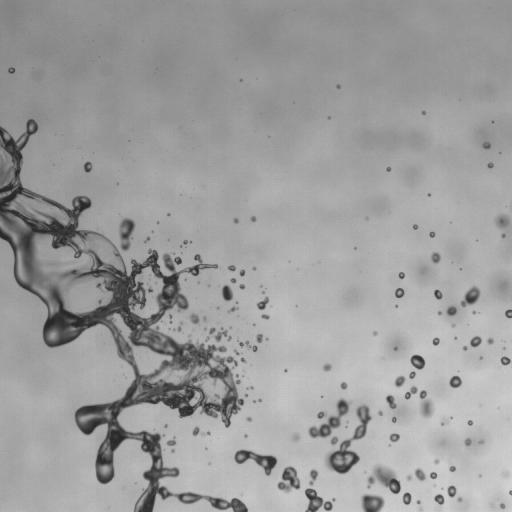droplet: (366, 464, 401, 494), (277, 465, 300, 493), (359, 493, 385, 511), (460, 285, 480, 307), (494, 213, 509, 230), (410, 354, 425, 369), (221, 284, 233, 301), (434, 494, 445, 511), (256, 296, 269, 310), (449, 374, 462, 388), (404, 385, 417, 399), (385, 394, 396, 409), (414, 468, 426, 481), (469, 335, 481, 347), (188, 312, 199, 325), (439, 416, 453, 426), (430, 251, 441, 263), (394, 375, 405, 387), (9, 128, 20, 139), (482, 150, 493, 161), (78, 186, 89, 197), (78, 210, 89, 221), (238, 213, 249, 224), (76, 219, 87, 230), (417, 225, 428, 236), (121, 249, 132, 260), (135, 252, 146, 263), (182, 256, 193, 267), (437, 298, 448, 309), (168, 304, 179, 315), (456, 305, 467, 316), (155, 319, 166, 330), (256, 319, 267, 330), (182, 320, 193, 331), (93, 322, 104, 333), (82, 326, 93, 337), (174, 333, 185, 344), (240, 346, 251, 357), (412, 376, 423, 387), (392, 387, 403, 398), (114, 388, 125, 399), (339, 389, 350, 400), (238, 404, 249, 415), (326, 405, 337, 416), (431, 407, 442, 418), (345, 408, 356, 419), (116, 413, 127, 424), (96, 423, 107, 434), (119, 438, 130, 449), (348, 441, 359, 452), (112, 447, 123, 458), (141, 453, 152, 464), (161, 456, 172, 467), (141, 457, 152, 468), (381, 458, 392, 469), (435, 463, 446, 474), (272, 464, 283, 475), (372, 483, 383, 494), (378, 485, 389, 496), (294, 488, 305, 499), (198, 498, 209, 509), (447, 485, 457, 497), (402, 492, 411, 505), (446, 306, 457, 316), (500, 356, 511, 366), (83, 161, 92, 172), (185, 502, 196, 511), (395, 288, 404, 298), (291, 432, 300, 442), (389, 433, 399, 442), (166, 436, 176, 445), (19, 162, 28, 171), (113, 237, 122, 246), (218, 261, 227, 270), (395, 278, 404, 287), (229, 283, 238, 292), (178, 285, 187, 294), (471, 300, 480, 309), (186, 304, 195, 313), (181, 308, 190, 317), (218, 337, 227, 346), (401, 382, 410, 391), (248, 390, 257, 399), (410, 392, 419, 401), (88, 396, 97, 405), (347, 404, 356, 413), (313, 418, 322, 427), (329, 427, 338, 436), (344, 429, 353, 438), (300, 430, 309, 439), (259, 447, 268, 456), (245, 457, 254, 466), (255, 464, 264, 473), (157, 477, 166, 486), (140, 478, 149, 487), (299, 480, 308, 489), (168, 495, 177, 504), (434, 289, 442, 299), (501, 469, 509, 479), (322, 363, 331, 371), (428, 471, 437, 479), (256, 333, 263, 343), (505, 222, 511, 233), (505, 477, 511, 488), (505, 495, 511, 506), (151, 505, 162, 511), (353, 505, 364, 511), (403, 505, 414, 511), (437, 505, 448, 511), (482, 141, 490, 149), (464, 437, 471, 446), (505, 308, 511, 318), (449, 461, 455, 471), (432, 337, 439, 345), (340, 381, 347, 389), (0, 65, 5, 76), (0, 145, 5, 156), (0, 218, 5, 229), (227, 265, 236, 271), (398, 272, 405, 279), (486, 337, 493, 344), (432, 458, 439, 465), (19, 148, 26, 155), (90, 163, 97, 170), (81, 208, 88, 215), (127, 213, 134, 220), (115, 216, 122, 223), (496, 227, 503, 234), (129, 230, 136, 237), (425, 256, 432, 263), (156, 257, 163, 264), (164, 269, 171, 276), (232, 270, 239, 277), (176, 276, 183, 283), (236, 276, 243, 283), (462, 285, 469, 292), (216, 290, 223, 297), (458, 293, 465, 300), (186, 296, 193, 303), (226, 299, 233, 306), (454, 302, 461, 309), (469, 302, 476, 309), (465, 303, 472, 310), (161, 313, 168, 320), (40, 314, 47, 321), (448, 314, 455, 321), (171, 320, 178, 327), (450, 328, 457, 335), (208, 337, 215, 344), (250, 338, 257, 345), (67, 340, 74, 347), (213, 340, 220, 347), (479, 340, 486, 347), (62, 342, 69, 349), (110, 344, 117, 351), (212, 349, 219, 356), (218, 351, 225, 358), (126, 365, 133, 372), (230, 367, 237, 374), (128, 373, 135, 380), (236, 391, 243, 398), (331, 397, 338, 404), (142, 401, 149, 408), (368, 409, 375, 416), (68, 414, 75, 421), (183, 414, 190, 421), (229, 414, 236, 421), (339, 415, 346, 422), (321, 416, 328, 423), (354, 418, 361, 425), (365, 421, 372, 428), (147, 427, 154, 434), (75, 429, 82, 436), (324, 434, 331, 441), (315, 435, 322, 442), (337, 435, 344, 442), (158, 438, 165, 445), (470, 439, 477, 446), (90, 452, 97, 459), (350, 464, 357, 471), (366, 468, 373, 475), (330, 469, 337, 476), (423, 469, 430, 476), (90, 474, 97, 481), (398, 487, 405, 494), (277, 488, 284, 495), (441, 490, 448, 497), (211, 491, 218, 498), (154, 493, 161, 500), (240, 496, 247, 503), (409, 371, 415, 379), (261, 314, 270, 319), (506, 212, 511, 221), (316, 506, 325, 511), (378, 506, 387, 511), (8, 67, 15, 73), (239, 269, 245, 276), (406, 474, 412, 481), (499, 502, 505, 509), (183, 240, 191, 245), (487, 162, 493, 168), (233, 217, 239, 223), (250, 216, 256, 222), (429, 231, 435, 237), (240, 357, 246, 363), (246, 416, 252, 422), (0, 237, 4, 246), (505, 505, 511, 511), (372, 330, 377, 337), (412, 224, 418, 229), (230, 278, 236, 283), (239, 284, 245, 289), (462, 345, 467, 351), (377, 410, 383, 415), (467, 420, 473, 425), (457, 496, 462, 502), (212, 507, 219, 511), (226, 507, 233, 511), (421, 110, 426, 115), (386, 166, 391, 171), (437, 310, 442, 315), (393, 346, 398, 351), (33, 116, 38, 121), (1, 123, 6, 128), (21, 127, 26, 132), (28, 134, 33, 139), (12, 135, 17, 140), (25, 141, 30, 146), (489, 144, 494, 149), (484, 148, 489, 153), (80, 159, 85, 164), (492, 161, 497, 166), (79, 166, 84, 171), (18, 171, 23, 176), (21, 182, 26, 187), (76, 191, 81, 196), (56, 198, 61, 203), (90, 201, 95, 206), (68, 204, 73, 209), (249, 211, 254, 216), (255, 215, 260, 220), (232, 222, 237, 227), (75, 225, 80, 230), (97, 228, 102, 233), (148, 232, 153, 237), (433, 247, 438, 252), (118, 248, 123, 253), (175, 251, 180, 256), (144, 252, 149, 257), (169, 254, 174, 259), (201, 258, 206, 263), (438, 258, 443, 263), (193, 259, 198, 264), (209, 259, 214, 264), (433, 262, 438, 267), (8, 265, 13, 270), (125, 270, 130, 275), (186, 272, 191, 277), (194, 274, 199, 279), (10, 276, 15, 281), (12, 280, 17, 285), (438, 287, 443, 292), (24, 289, 29, 294), (264, 291, 269, 296), (429, 291, 434, 296), (441, 293, 446, 298), (32, 294, 37, 299), (430, 294, 435, 299), (259, 296, 264, 301), (398, 296, 403, 301), (39, 301, 44, 306), (264, 302, 269, 307), (260, 308, 265, 313), (233, 309, 238, 314), (441, 309, 446, 314), (500, 312, 505, 317), (197, 314, 202, 319), (261, 317, 266, 322), (192, 323, 197, 328), (206, 324, 211, 329), (372, 325, 377, 330), (215, 326, 220, 331), (204, 329, 209, 334), (226, 330, 231, 335), (367, 330, 372, 335), (474, 331, 479, 336), (488, 333, 493, 338), (220, 335, 225, 340), (38, 336, 43, 341), (230, 337, 235, 342), (240, 337, 245, 342), (492, 337, 497, 342), (191, 339, 196, 344), (465, 341, 470, 346), (499, 341, 504, 346), (42, 343, 47, 348), (477, 343, 482, 348), (488, 343, 493, 348), (242, 344, 247, 349), (235, 345, 240, 350), (457, 345, 462, 350), (418, 351, 423, 356), (421, 354, 426, 359), (234, 355, 239, 360), (405, 357, 410, 362), (322, 359, 327, 364), (327, 359, 332, 364), (319, 361, 324, 366), (423, 362, 428, 367), (411, 366, 416, 371), (324, 370, 329, 375), (457, 372, 462, 377), (447, 373, 452, 378), (404, 374, 409, 379), (459, 375, 464, 380), (445, 376, 450, 381), (390, 378, 395, 383), (346, 383, 351, 388), (336, 385, 341, 390), (454, 386, 459, 391), (246, 389, 251, 394), (382, 392, 387, 397), (242, 397, 247, 402), (392, 398, 397, 403), (384, 401, 389, 406), (197, 405, 202, 410), (173, 407, 178, 412), (313, 409, 318, 414), (201, 411, 206, 416), (219, 421, 224, 426), (189, 425, 194, 430), (198, 426, 203, 431), (392, 428, 397, 433), (196, 432, 201, 437), (385, 432, 390, 437), (305, 433, 310, 438), (362, 434, 367, 439), (167, 435, 172, 440), (174, 437, 179, 442), (385, 438, 390, 443), (396, 438, 401, 443), (137, 439, 142, 444), (390, 441, 395, 446), (460, 441, 465, 446), (168, 444, 173, 449), (243, 445, 248, 450), (230, 450, 235, 455), (355, 450, 360, 455), (435, 454, 440, 459), (231, 459, 236, 464), (451, 461, 456, 466), (293, 464, 298, 469), (444, 465, 449, 470), (113, 469, 118, 474), (178, 469, 183, 474), (339, 472, 344, 477), (411, 474, 416, 479), (306, 475, 311, 480), (395, 475, 400, 480), (107, 480, 112, 485), (363, 480, 368, 485), (446, 481, 451, 486), (98, 482, 103, 487), (272, 482, 277, 487), (310, 484, 315, 489), (177, 488, 182, 493), (191, 488, 196, 493), (316, 491, 321, 496), (453, 493, 458, 498), (410, 496, 415, 501), (226, 497, 231, 502), (304, 497, 309, 502), (432, 500, 437, 505), (331, 501, 336, 506), (419, 501, 424, 506), (457, 501, 462, 506), (186, 502, 191, 507), (244, 502, 249, 507), (494, 502, 499, 507), (392, 416, 396, 422), (478, 440, 484, 444), (336, 84, 340, 89), (501, 233, 505, 238), (451, 323, 455, 328), (244, 433, 248, 438), (203, 316, 206, 322), (166, 212, 170, 216), (252, 266, 256, 270), (261, 290, 265, 294), (163, 424, 167, 428), (508, 354, 511, 359), (508, 470, 511, 475), (246, 508, 251, 511), (329, 508, 334, 511), (499, 508, 504, 511), (427, 193, 431, 196), (365, 216, 368, 220), (156, 220, 159, 224), (184, 277, 187, 281), (203, 327, 206, 331), (479, 356, 483, 359), (284, 368, 287, 372), (244, 393, 247, 397), (171, 448, 174, 452), (208, 461, 211, 465), (478, 474, 482, 477), (240, 492, 243, 496), (327, 116, 330, 119), (491, 120, 494, 123), (151, 230, 154, 233), (154, 281, 157, 284), (207, 284, 210, 287), (260, 284, 263, 287), (395, 304, 398, 307), (216, 306, 219, 309), (252, 323, 255, 326), (228, 326, 231, 329), (265, 337, 268, 340), (454, 336, 457, 339), (502, 347, 505, 350), (241, 374, 244, 377), (320, 395, 323, 398), (497, 406, 500, 409), (364, 470, 367, 473), (433, 484, 436, 487), (11, 64, 14, 67), (5, 67, 8, 70), (14, 68, 17, 71), (9, 72, 12, 75), (236, 77, 239, 80), (239, 81, 242, 84), (339, 83, 342, 86), (334, 87, 337, 90), (421, 107, 424, 110), (418, 110, 421, 113), (425, 111, 428, 114), (327, 112, 330, 115), (421, 114, 424, 117), (324, 115, 327, 118), (27, 116, 30, 119), (330, 116, 333, 119), (491, 117, 494, 120), (327, 119, 330, 122), (488, 120, 491, 123), (491, 122, 494, 125), (480, 140, 483, 143), (498, 148, 501, 151), (486, 160, 489, 163), (384, 164, 387, 167), (484, 164, 487, 167), (491, 166, 494, 169), (390, 167, 393, 170), (487, 167, 490, 170), (383, 168, 386, 171), (89, 169, 92, 172), (388, 170, 391, 173), (85, 171, 88, 174), (428, 190, 431, 193), (424, 193, 427, 196), (430, 193, 433, 196), (167, 209, 170, 212), (163, 212, 166, 215), (167, 215, 170, 218), (230, 218, 233, 221), (237, 218, 240, 221), (153, 220, 156, 223), (249, 220, 252, 223), (158, 221, 161, 224), (415, 221, 418, 224), (409, 224, 412, 227), (410, 227, 413, 230), (92, 228, 95, 231), (415, 228, 418, 231), (429, 228, 432, 231), (95, 229, 98, 232), (153, 229, 156, 232), (504, 232, 507, 235), (103, 233, 106, 236), (434, 233, 437, 236), (498, 233, 501, 236), (426, 234, 429, 237), (143, 236, 146, 239), (432, 236, 435, 239), (186, 238, 189, 241), (191, 239, 194, 242), (186, 242, 189, 245), (181, 243, 184, 246), (354, 243, 357, 246), (350, 245, 353, 248), (356, 246, 359, 249), (351, 248, 354, 251), (191, 254, 194, 257), (180, 257, 183, 260), (228, 262, 231, 265), (217, 263, 220, 266), (459, 264, 462, 267), (255, 265, 258, 268), (210, 267, 213, 270), (461, 267, 464, 270), (255, 268, 258, 271), (456, 268, 459, 271), (401, 269, 404, 272), (243, 272, 246, 275), (403, 275, 406, 278), (396, 276, 399, 279), (395, 285, 398, 288), (435, 286, 438, 289), (260, 287, 263, 290), (392, 289, 395, 292), (403, 290, 406, 293), (392, 294, 395, 297), (396, 297, 399, 300), (391, 304, 394, 307), (394, 307, 397, 310), (504, 307, 507, 310), (216, 309, 219, 312), (434, 311, 437, 314), (474, 312, 477, 315), (438, 314, 441, 317), (205, 316, 208, 319), (268, 316, 271, 319), (170, 317, 173, 320), (250, 320, 253, 323), (249, 323, 252, 326), (455, 323, 458, 326), (212, 324, 215, 327), (180, 325, 183, 328), (231, 325, 234, 328), (376, 329, 379, 332), (258, 330, 261, 333), (375, 334, 378, 337), (451, 334, 454, 337), (372, 335, 375, 338), (437, 335, 440, 338), (456, 335, 459, 338), (261, 336, 264, 339), (454, 339, 457, 342), (429, 340, 432, 343), (437, 342, 440, 345), (503, 343, 506, 346), (392, 344, 395, 347), (390, 347, 393, 350), (396, 348, 399, 351), (461, 349, 464, 352), (252, 351, 255, 354), (476, 355, 479, 358), (498, 355, 501, 358), (243, 356, 246, 359), (479, 359, 482, 362), (498, 361, 501, 364), (281, 367, 284, 370), (286, 368, 289, 371), (247, 383, 250, 386), (252, 384, 255, 387), (321, 392, 324, 395), (258, 395, 261, 398), (317, 395, 320, 398), (254, 397, 257, 400), (320, 397, 323, 400), (261, 398, 264, 401), (404, 398, 407, 401), (255, 400, 258, 403), (252, 402, 255, 405), (320, 408, 323, 411), (447, 413, 450, 416), (450, 413, 453, 416), (388, 418, 391, 421), (395, 418, 398, 421), (465, 418, 468, 421), (471, 418, 474, 421), (246, 420, 249, 423), (390, 421, 393, 424), (161, 422, 164, 425), (437, 423, 440, 426), (465, 423, 468, 426), (228, 424, 231, 427), (166, 425, 169, 428), (441, 425, 444, 428), (209, 431, 212, 434), (241, 432, 244, 435), (246, 432, 249, 435), (206, 434, 209, 437), (241, 435, 244, 438), (246, 436, 249, 439), (479, 443, 482, 446), (205, 444, 208, 447), (201, 447, 204, 450), (431, 457, 434, 460), (204, 462, 207, 465), (448, 463, 451, 466), (433, 469, 436, 472), (452, 470, 455, 473), (436, 473, 439, 476), (315, 475, 318, 478), (432, 478, 435, 481), (506, 489, 509, 492), (507, 493, 510, 496), (334, 496, 337, 499), (461, 497, 464, 500), (419, 499, 422, 502), (401, 502, 404, 505), (416, 503, 419, 506), (504, 503, 507, 506), (131, 505, 134, 508), (240, 78, 242, 81), (498, 152, 501, 154), (116, 182, 118, 185), (354, 246, 356, 249), (459, 268, 462, 270), (295, 304, 297, 307), (388, 444, 391, 446), (205, 447, 207, 450), (134, 482, 137, 484), (440, 487, 443, 489), (509, 317, 511, 320), (476, 239, 478, 241), (180, 245, 182, 247), (288, 260, 290, 262), (457, 370, 459, 372), (268, 136, 269, 137), (168, 239, 169, 240), (451, 262, 452, 263)
ligament: (324, 404, 372, 474), (307, 398, 352, 439), (234, 449, 277, 475), (118, 217, 135, 251), (419, 390, 435, 418), (236, 337, 257, 351), (192, 426, 210, 436), (227, 300, 239, 313), (173, 320, 185, 332), (416, 500, 423, 511), (233, 349, 242, 355), (252, 398, 262, 403), (143, 236, 150, 243), (472, 310, 479, 314), (123, 373, 127, 379), (345, 420, 348, 428), (246, 386, 253, 389), (380, 357, 385, 360), (167, 327, 170, 331), (242, 369, 245, 373), (509, 489, 511, 495), (510, 203, 511, 211), (197, 280, 199, 284)
